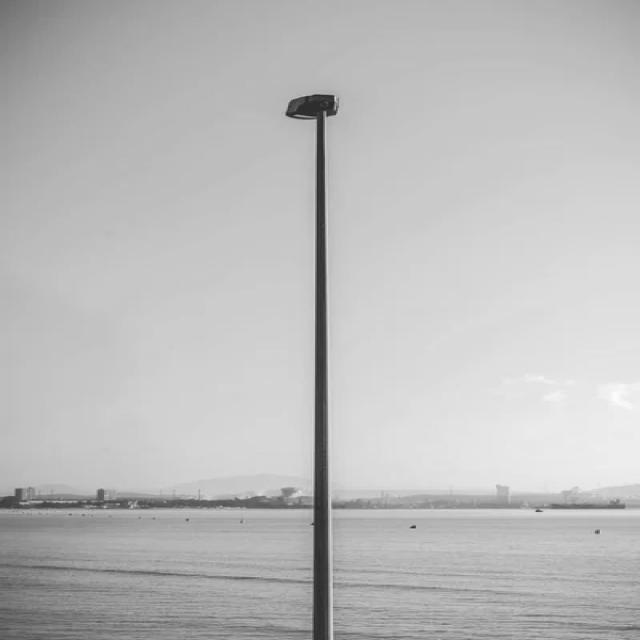Pole: (286, 94, 340, 639)
